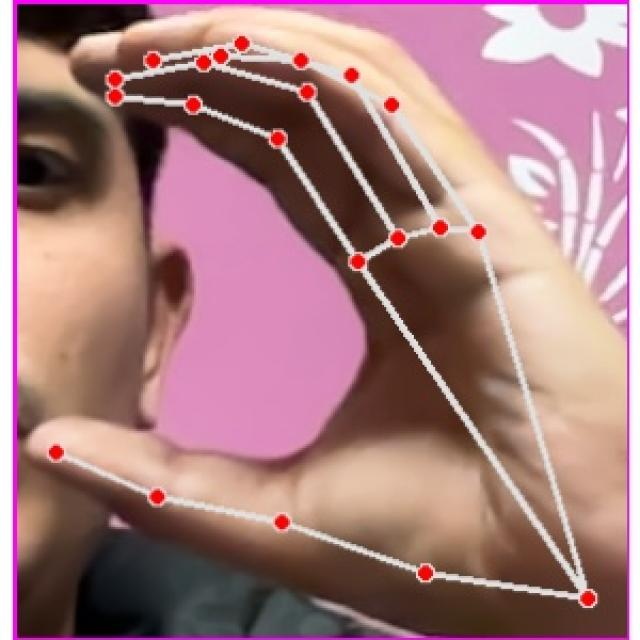C: (18, 1, 630, 640)
